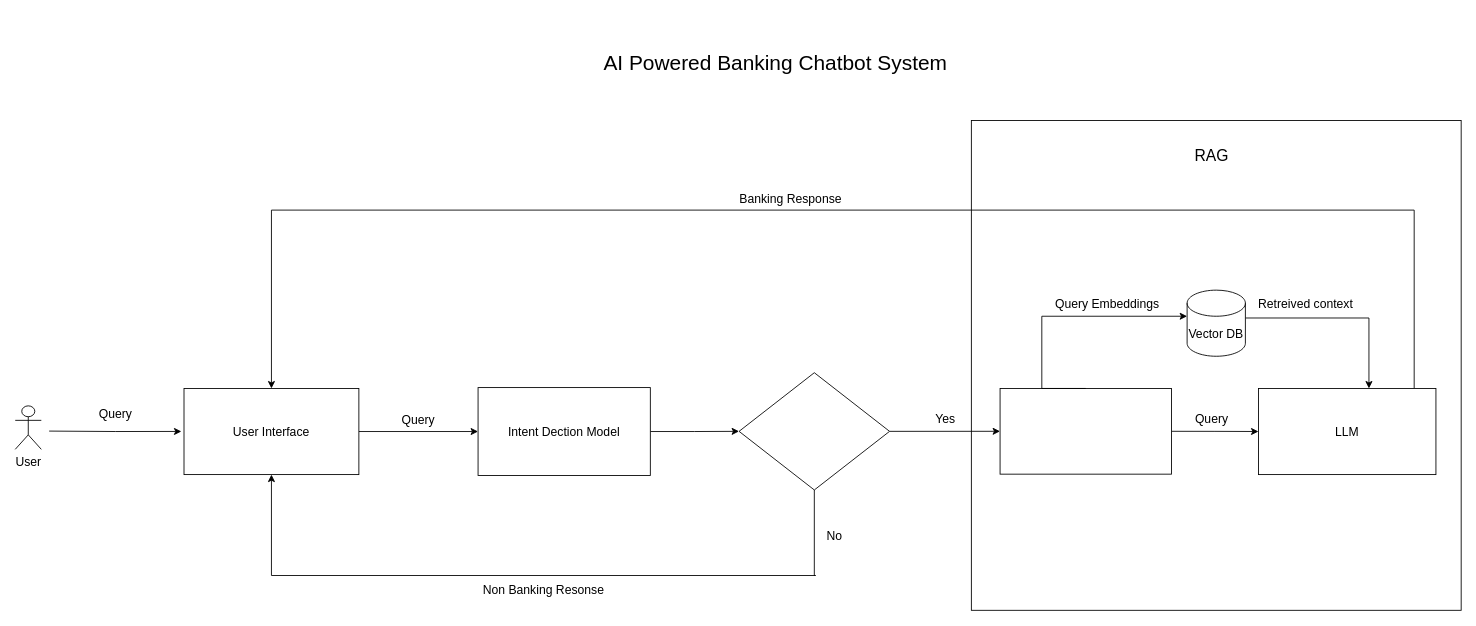
This 1476x626 diagram has some shape labels left out. The centre of each missing label's shape, as x and y in pixels:
"Banking Query ?" goes at point (814, 431).
"Query Embeddings Generator" goes at point (1085, 431).
